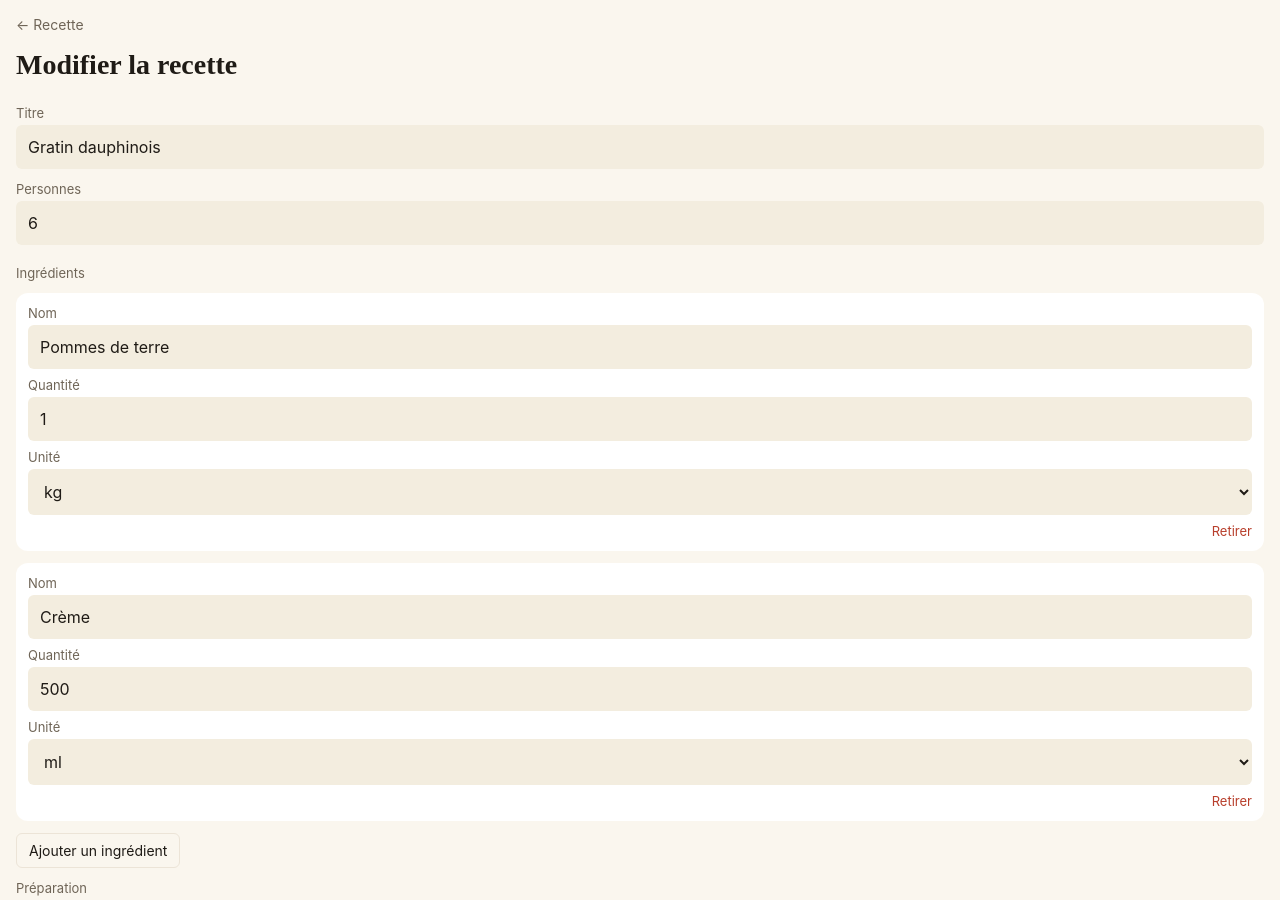
Test: RecipeEditContainer › verrouille « Enregistrer » si le titre est vidé
Clear the field labelled "Titre": (640, 147) [16, 125, 1264, 169]
(page scrolled)
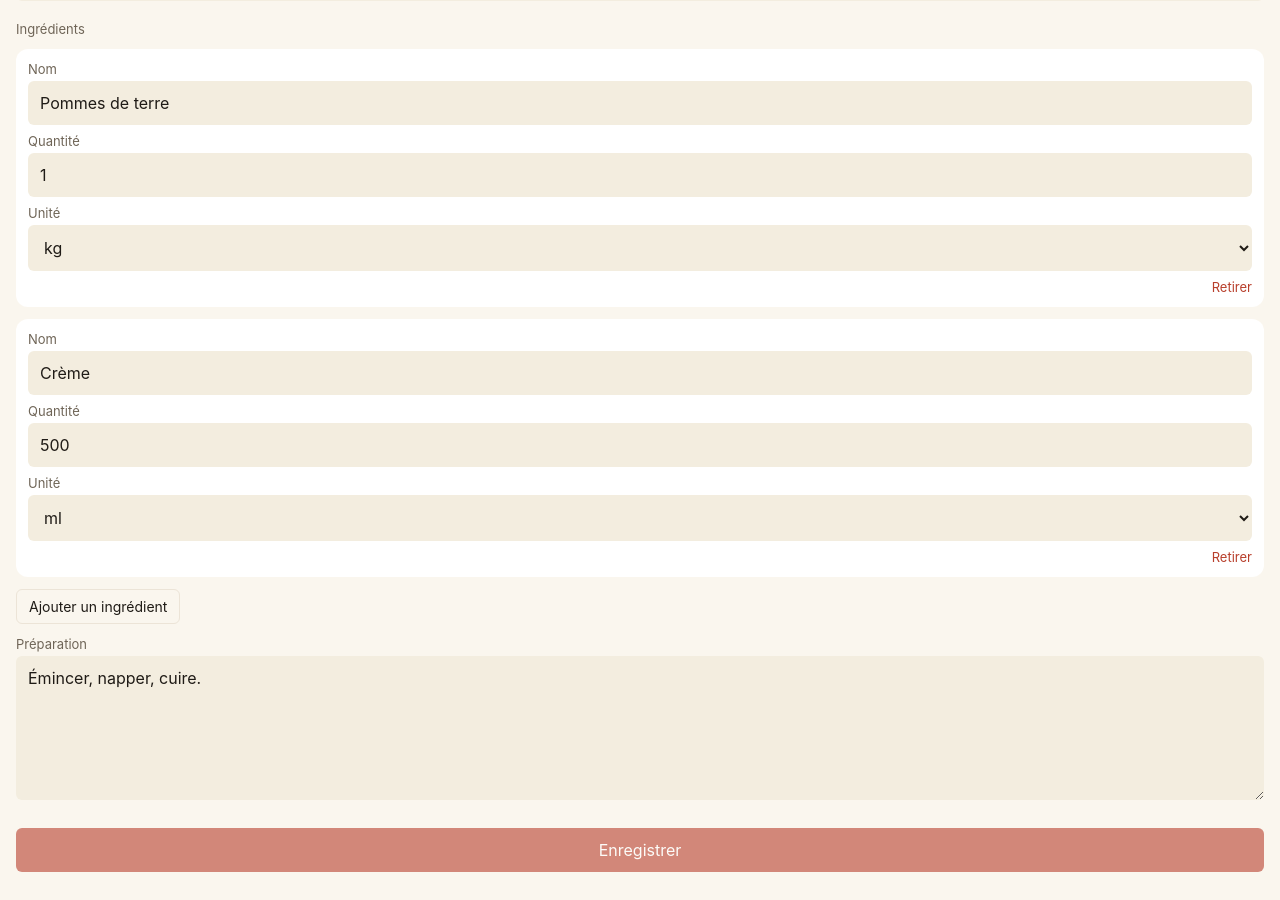
Now the button "Enregistrer" is disabled, box [16, 828, 1264, 872]
